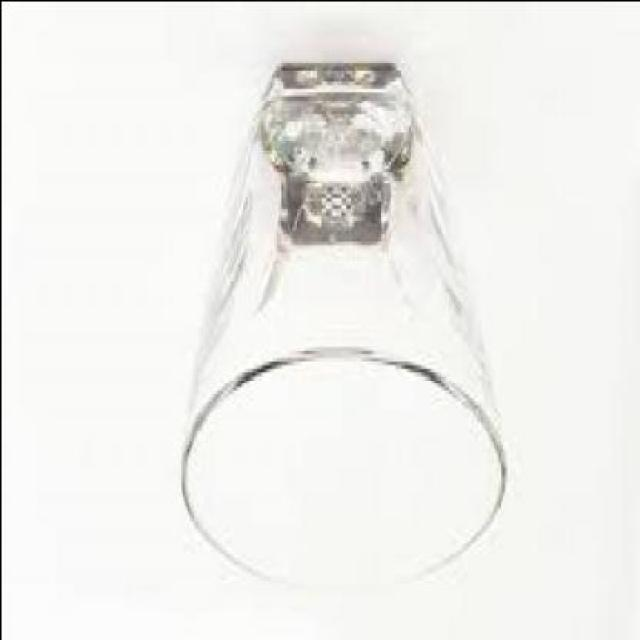glass: (177, 66, 501, 597)
